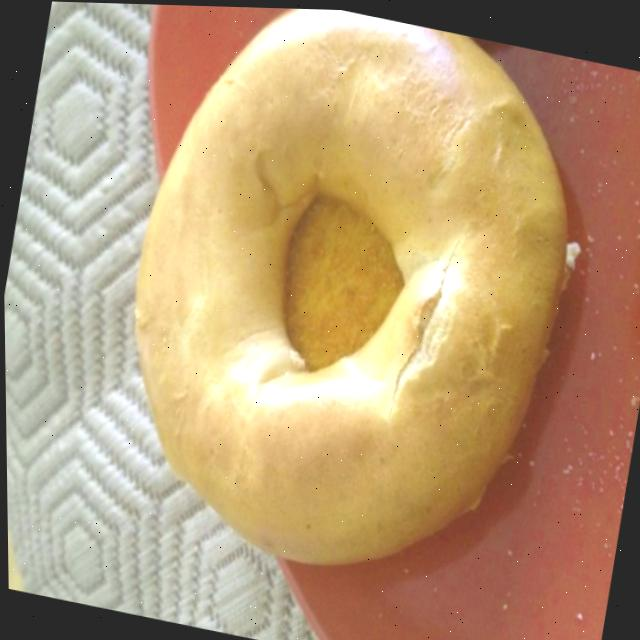面包点心: (44, 1, 632, 631)
